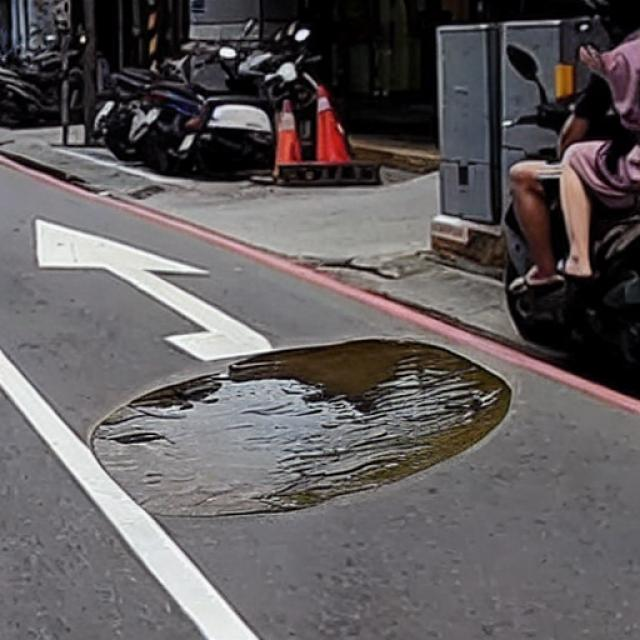puddle: (94, 341, 512, 515)
